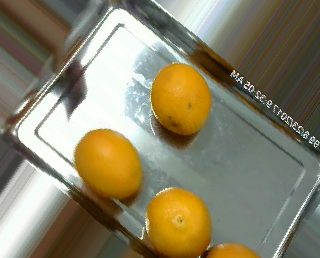Orange: (74, 129, 142, 199), (145, 186, 212, 256), (150, 62, 210, 135)
